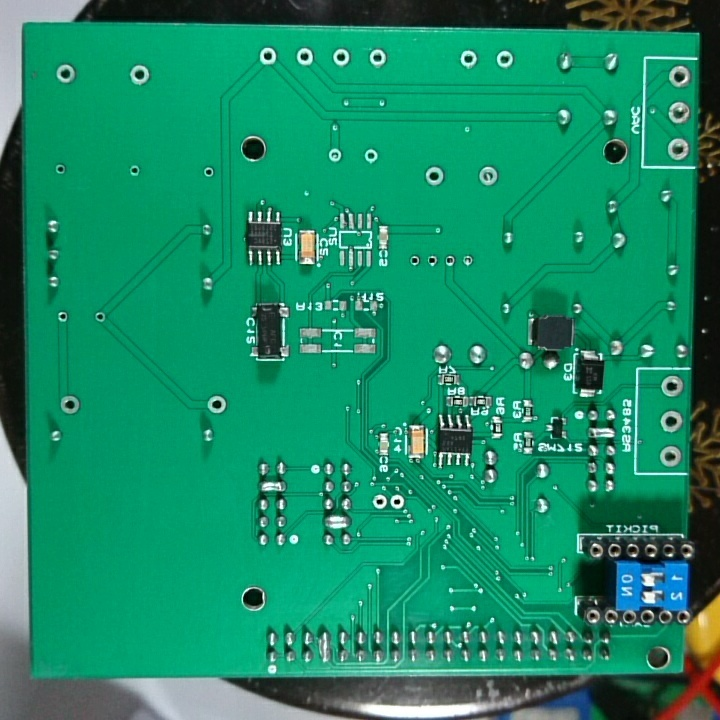F: (51, 60, 81, 90), (665, 98, 693, 128), (654, 443, 685, 469), (658, 409, 686, 436), (658, 373, 687, 399), (667, 61, 691, 92), (126, 61, 150, 92), (664, 135, 691, 162), (255, 45, 283, 70), (56, 392, 83, 417), (422, 163, 447, 190), (366, 47, 392, 71), (205, 392, 229, 417), (456, 48, 481, 72), (493, 49, 519, 72), (293, 44, 316, 69), (476, 165, 499, 189), (330, 47, 353, 69), (387, 492, 408, 514), (325, 145, 346, 164), (53, 162, 71, 180), (92, 307, 108, 327), (372, 491, 387, 512), (362, 146, 377, 167), (442, 249, 456, 271), (199, 164, 217, 181), (126, 162, 143, 180), (461, 251, 475, 272), (55, 309, 72, 326), (407, 253, 424, 269), (425, 252, 439, 271)
P: (318, 623, 334, 663), (323, 512, 352, 533), (256, 478, 290, 495), (586, 424, 619, 441)
